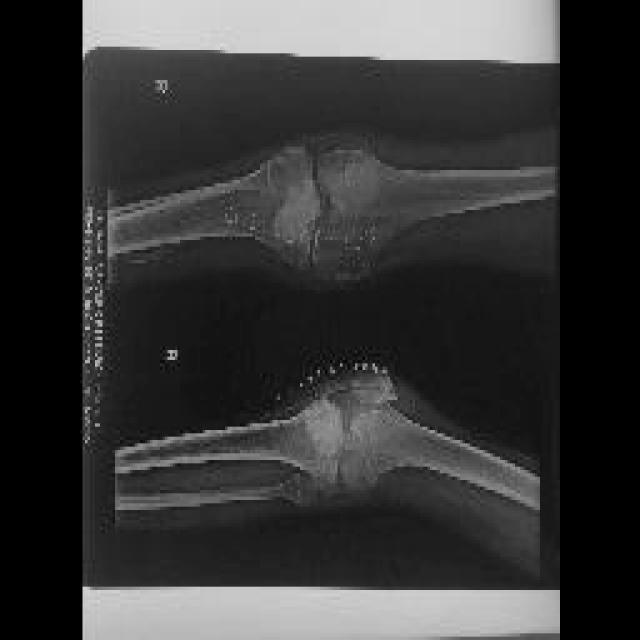bone-cancer: (277, 178, 326, 249), (306, 400, 350, 453)
